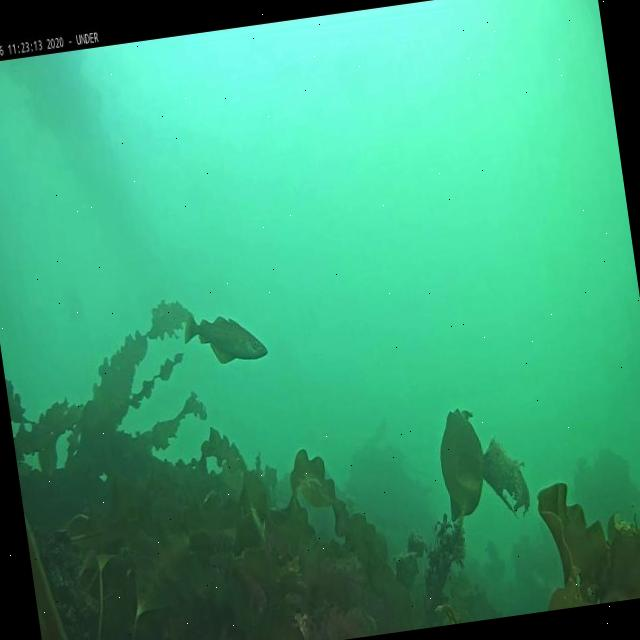fish: (182, 302, 270, 367)
